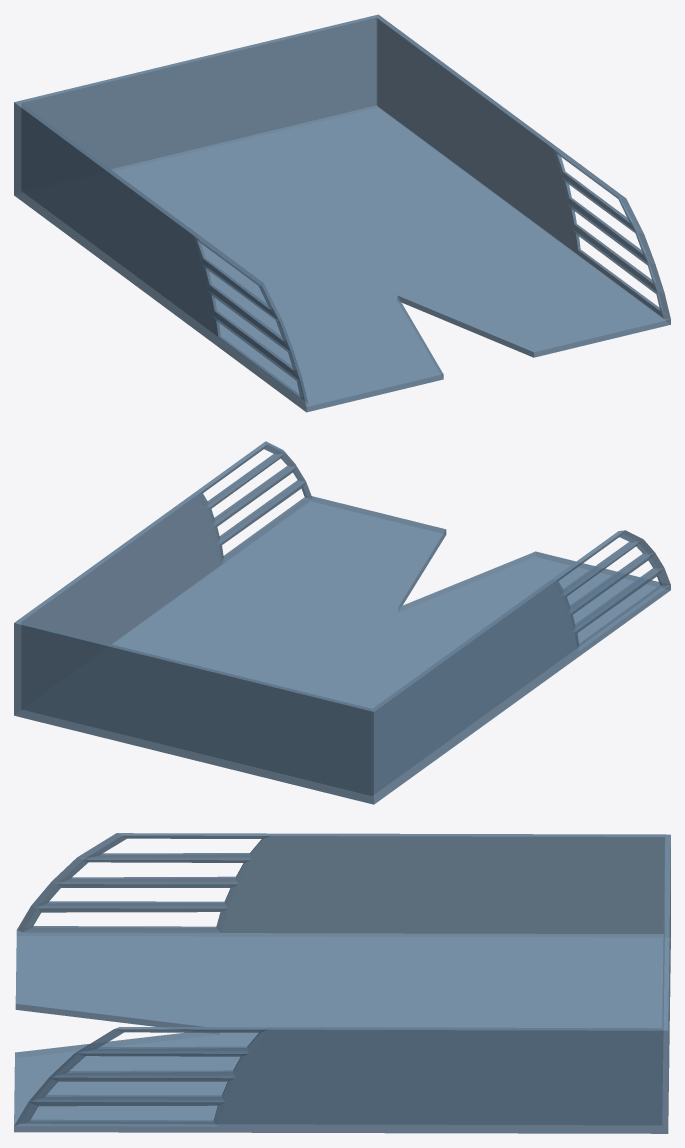
Rendered from bandeja.obj.
3 renders of one model, top to bottom at view 1: azimuth 30°, elevation 25°; view 2: azimuth 150°, elevation 25°; view 3: azimuth 270°, elevation 25°, orthographic. The views are drawn at different scales.
Visible parts, largest first — view 1: 1_1; view 2: 1_1; view 3: 1_1.
Part boxes in pixels (x1,y1,x2,y2): 1_1: (14, 14, 670, 412); 1_1: (14, 441, 670, 804); 1_1: (14, 833, 670, 1133).
Size of the model in its own units: 26.93 by 6.55 by 37.8.
